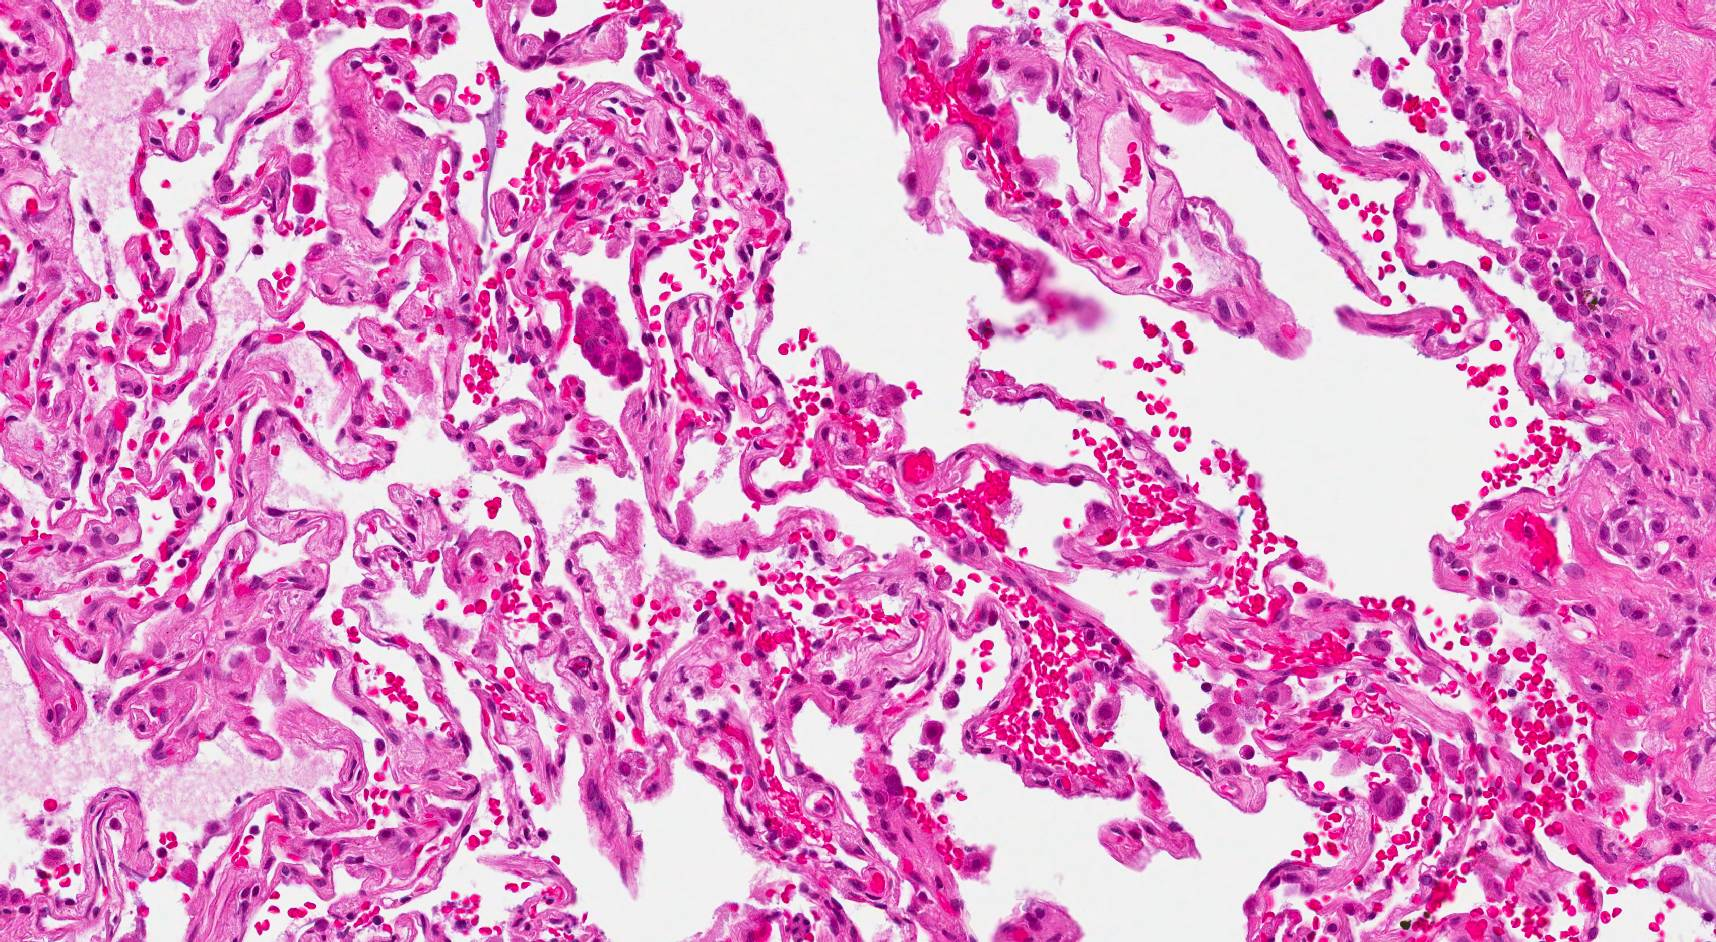stas: (566, 283, 651, 389)
